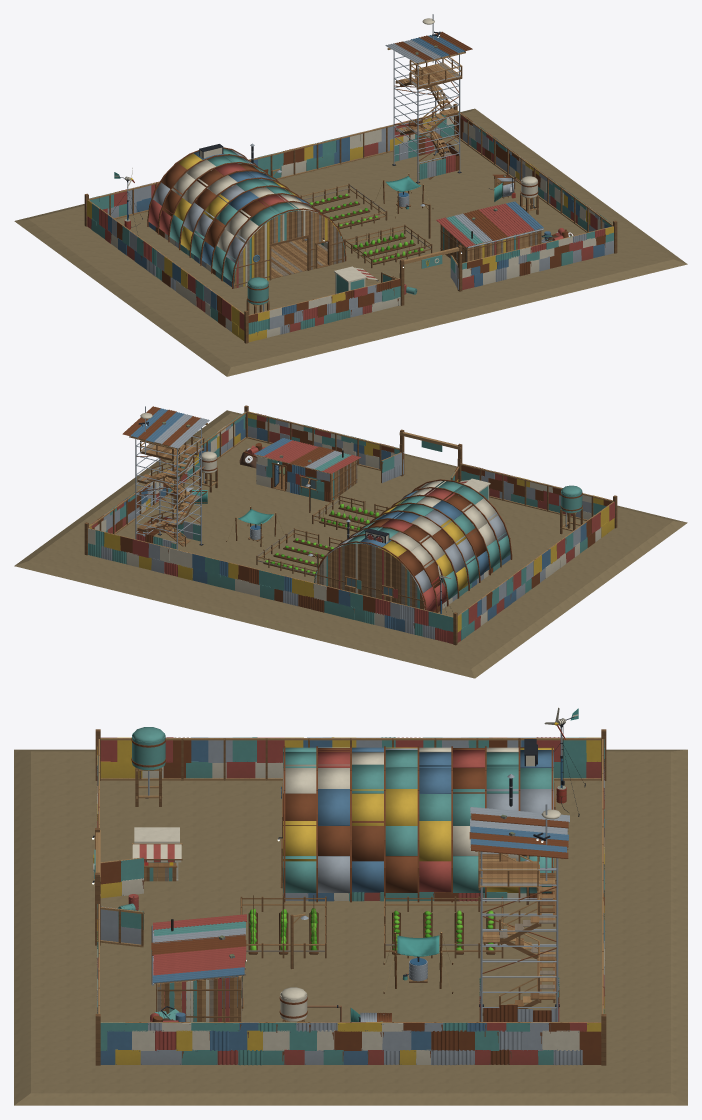
File: farmers_hideout.glb
3 views of the same model, one above another, from view 1: azimuth 30°, elevation 25°; view 2: azimuth 150°, elevation 25°; view 3: azimuth 270°, elevation 25° (orthographic). The views are drawn at different scales.
Visible parts, largest first — view 1: farmers_hideout.001; view 2: farmers_hideout.001; view 3: farmers_hideout.001.
Boxes of the visible parts, left/top/right/bottom form: farmers_hideout.001: left=14, top=14, right=687, bottom=376; farmers_hideout.001: left=14, top=405, right=687, bottom=678; farmers_hideout.001: left=14, top=707, right=687, bottom=1105.
Size of what is drawn, in the model's own units: 50 by 15.4 by 40.
112 materials, 110 textured.
